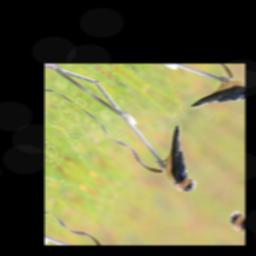Swallow: (142, 118, 225, 199)
